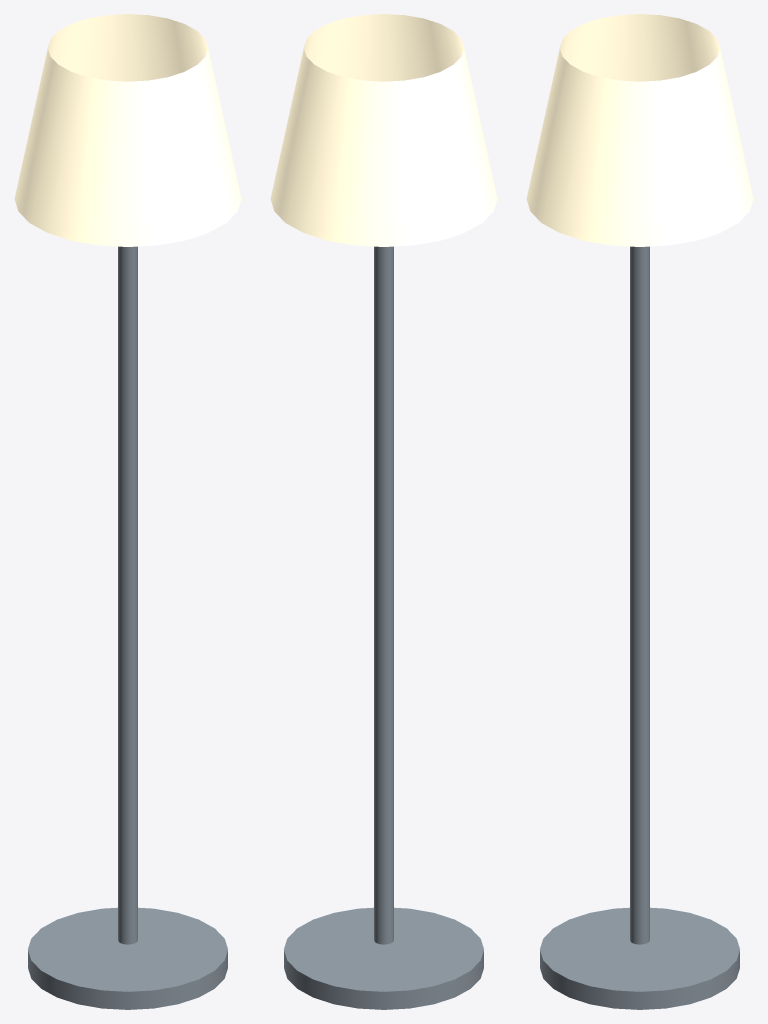
File: lamp.glb
The picture shows the model from 3 angles, left to right: view 1: azimuth 30°, elevation 25°; view 2: azimuth 150°, elevation 25°; view 3: azimuth 270°, elevation 25°; orthographic projection.
Parts seen in each view (by area): view 1: lamp; view 2: lamp; view 3: lamp.
Boxes of the visible parts, x1,y1,x2,y2 form: lamp: (14, 14, 241, 1009); lamp: (270, 14, 497, 1009); lamp: (526, 14, 753, 1009).
Bounding box in the file's own units: 0.34 × 1.52 × 0.34.
